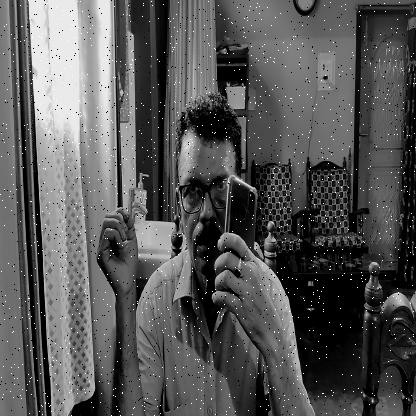Normal: (176, 108, 226, 280)
